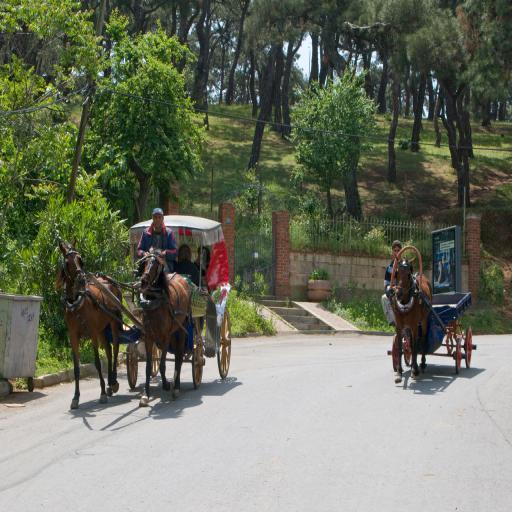horse: (52, 236, 125, 410), (138, 244, 193, 408), (393, 254, 434, 383)
